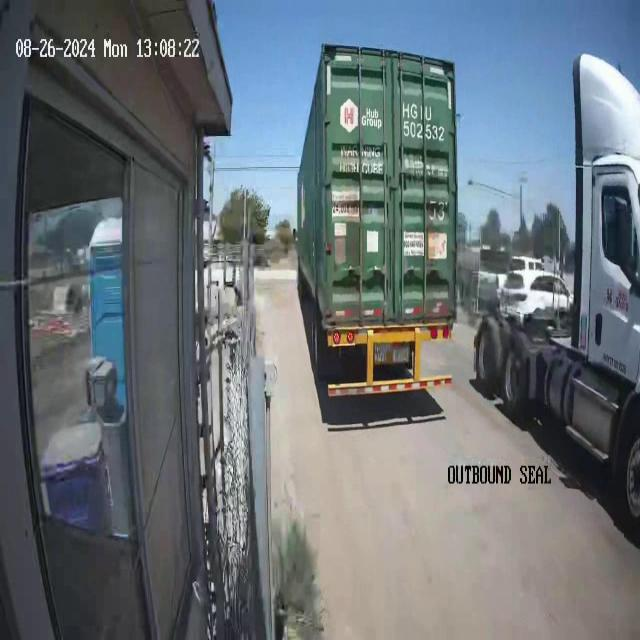TRUCK_IN: (472, 51, 639, 529)
TRUCK_OUT: (291, 43, 458, 413)
